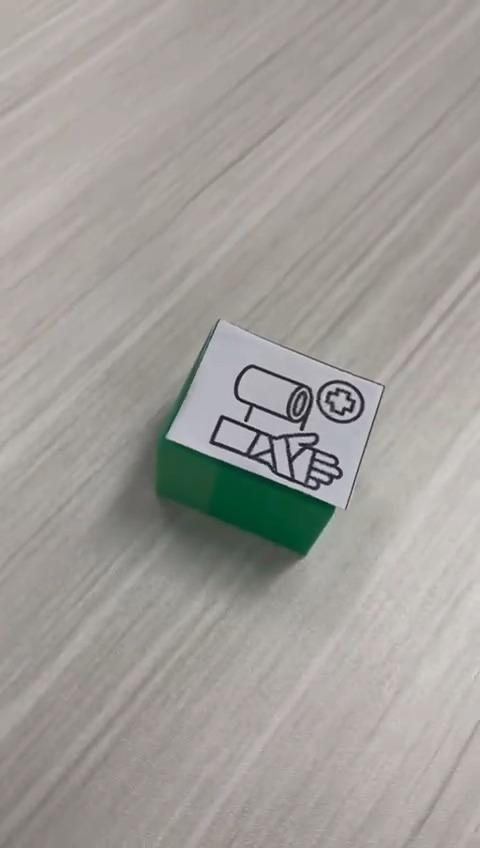Bandages: (155, 319, 384, 558)
